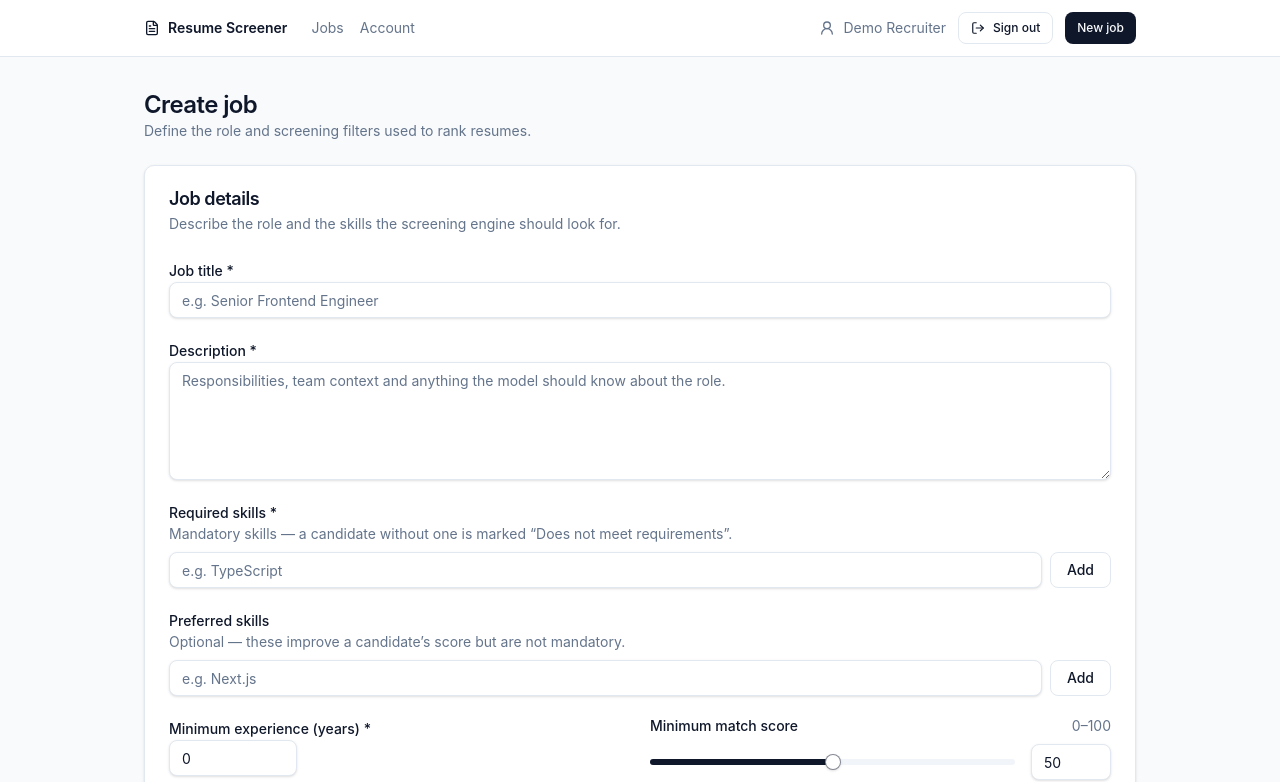
Test: job workflows › creates a job and opens its workspace
Expected: the heading "Create job" is shown, [144,90,257,119]
Type "Platform Engineer" into the field labelled "Job title *" at {"x": 640, "y": 300}, box [169,282,1111,318]
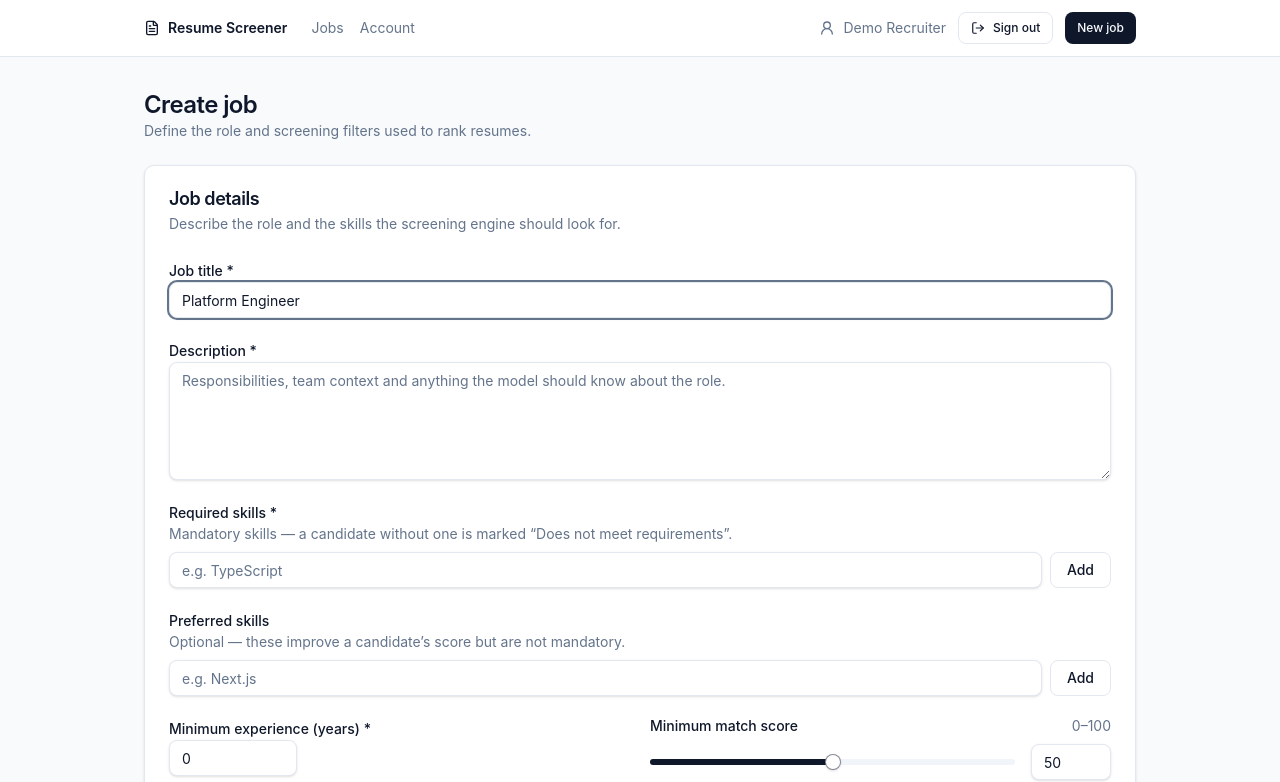
Type "Own the platform and developer experience." into the text box labelled "Description *" at {"x": 640, "y": 421}, box [169,362,1111,480]
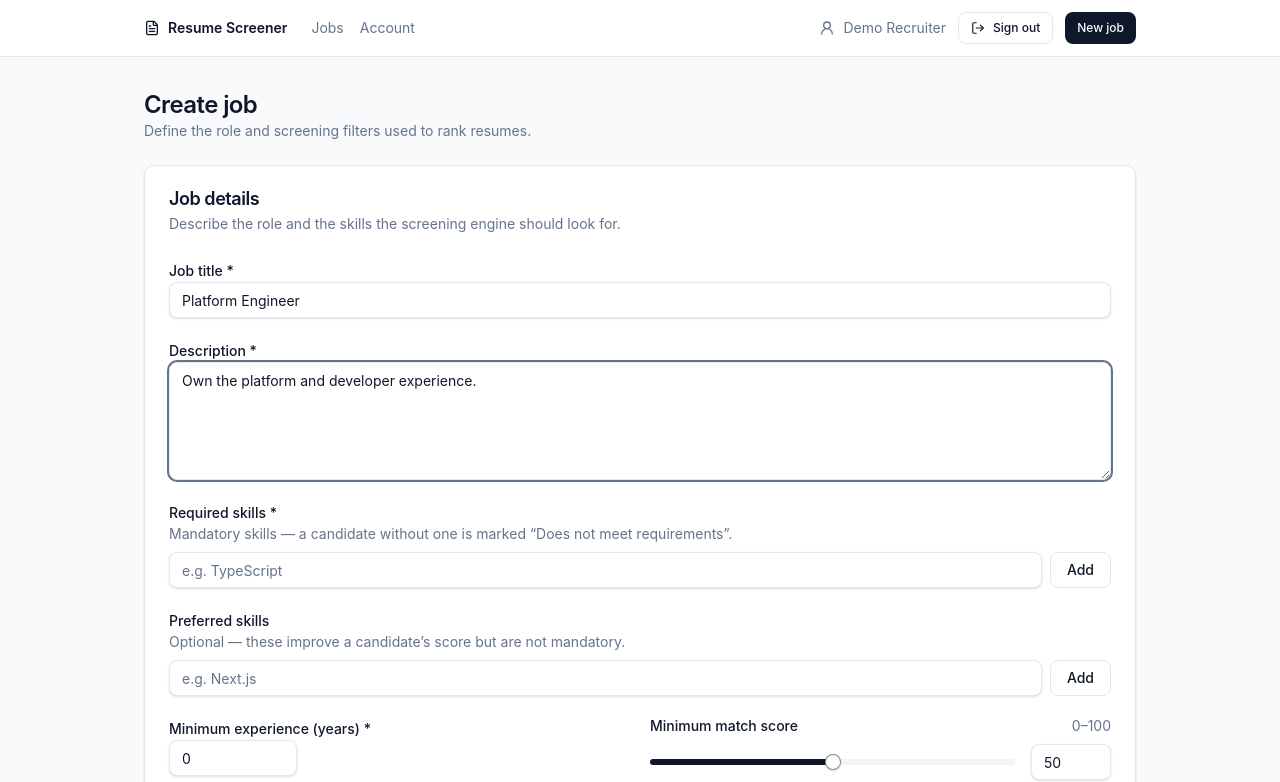
Type "Kubernetes" into the field labelled "Required skills *" at {"x": 605, "y": 570}, box [169,552,1042,588]
Then press Enter
(page scrolled)
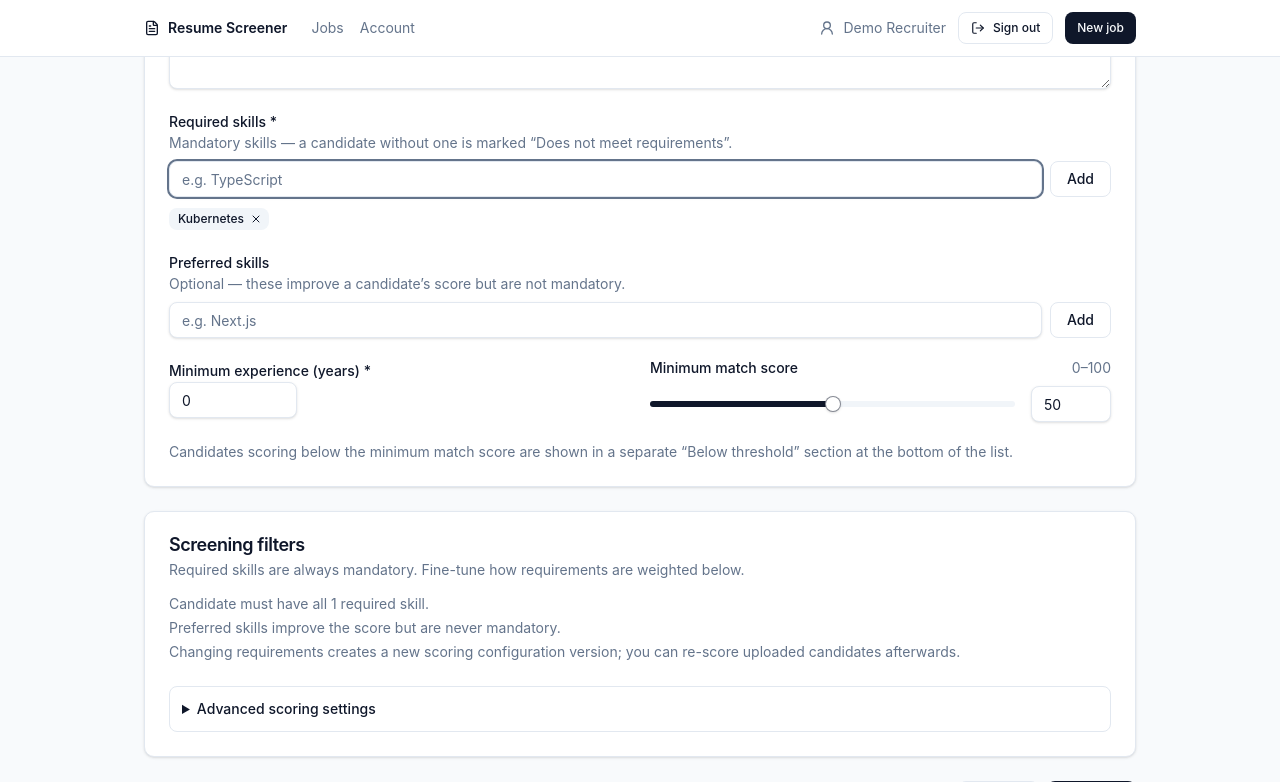
Replace the text in the number field labelled "Minimum experience (years) *" with "4" at {"x": 233, "y": 400}, box [169,382,297,418]
(page scrolled)
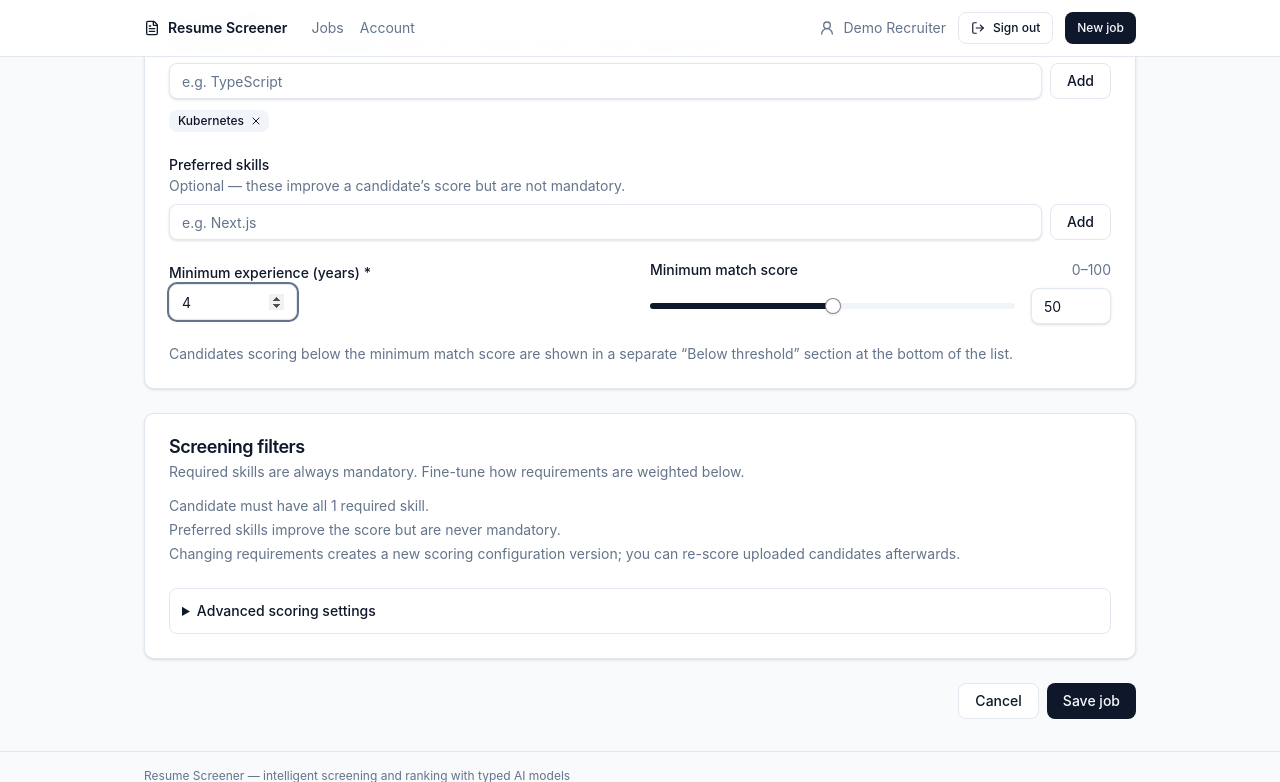
Click the button "Save job" at {"x": 1091, "y": 701}, box [1047,683,1136,719]
(page scrolled)
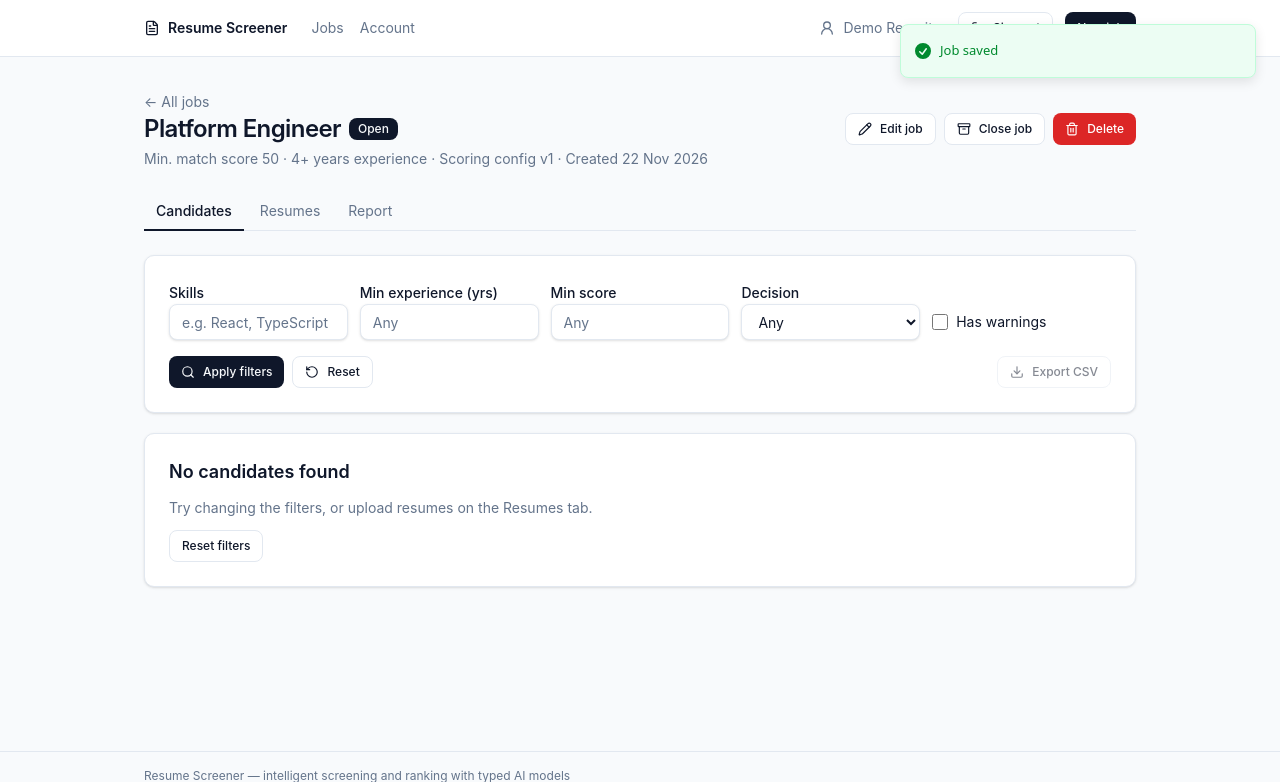
Now the text "Job saved" is shown, box [940,41,998,60]
Now the heading "Platform Engineer" is shown, box [144,113,341,145]
Now the text "Open" is shown, box [349,118,398,140]
